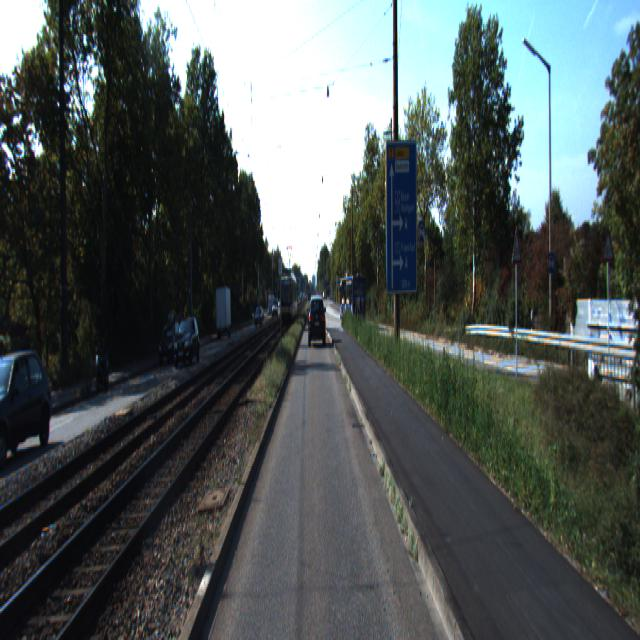Car: (0, 335, 62, 471), (171, 316, 201, 370), (339, 274, 367, 328), (158, 322, 184, 366), (215, 286, 231, 340), (94, 348, 112, 394), (309, 296, 325, 347)
